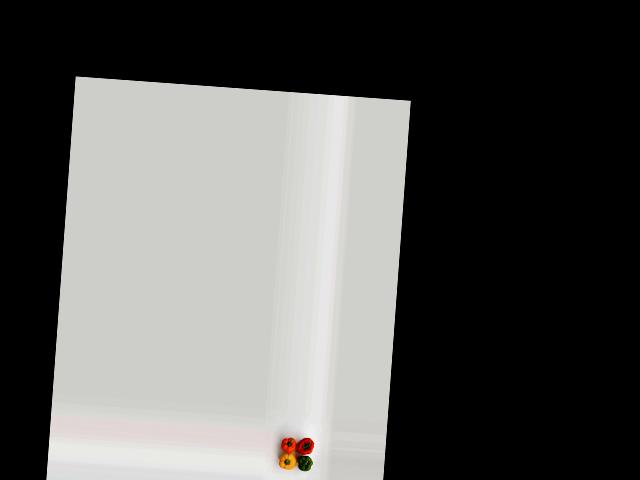bell_pepper: (295, 451, 314, 476)
